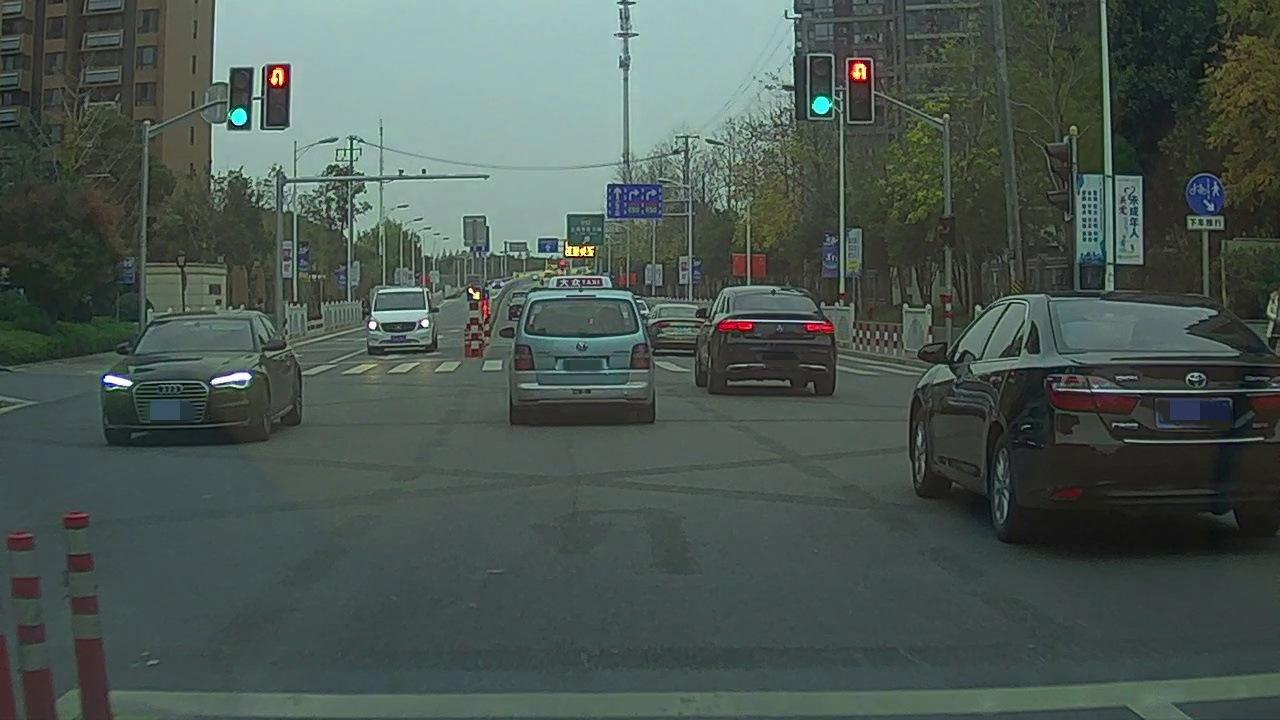traffic_light: (808, 55, 834, 117), (264, 65, 289, 124), (849, 60, 873, 119), (231, 70, 250, 128)
